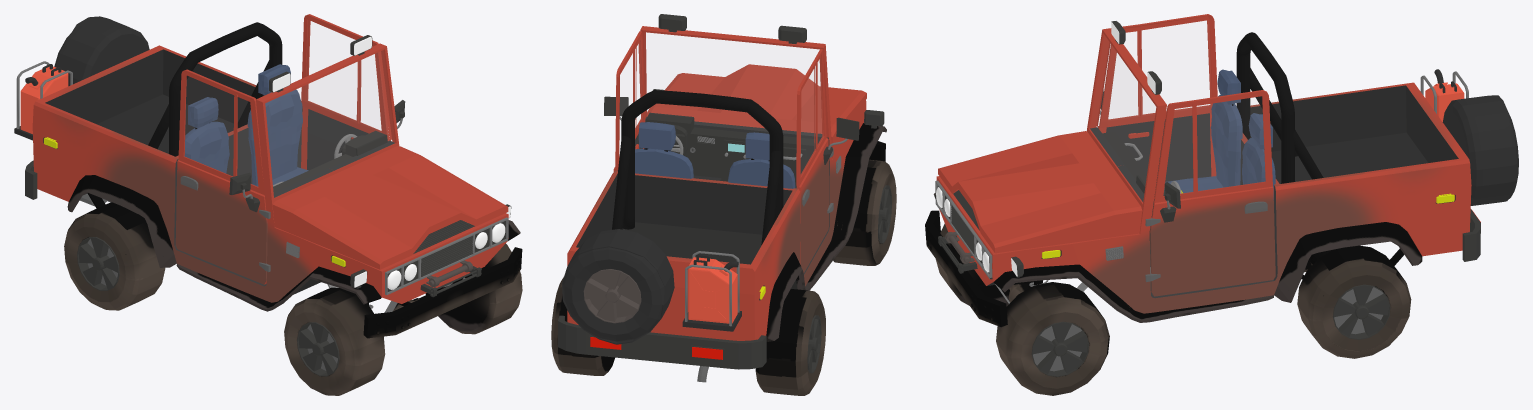
File: car.glb
3 renders of one model, left to right at view 1: azimuth 30°, elevation 25°; view 2: azimuth 150°, elevation 25°; view 3: azimuth 270°, elevation 25°, orthographic. The views are drawn at different scales.
Visible parts, largest first — view 1: Cube_0, Cube.001_1, Plane_2, Circle.005_21, Circle.004_20, Plane.008_18, Circle.006_31, Cube.009_38, Cylinder.002_28, Plane.001_3, Cube.008_39, Plane.002_4 (+10 smaller); view 2: Cube_0, Cube.001_1, Circle.003_30, Circle.004_20, Cylinder.002_28, Plane_2, Plane.009_22, Cube.007_32, Circle.005_21, Plane.002_4, Plane.011_26, Circle.006_31 (+8 smaller); view 3: Cube_0, Plane_2, Cube.001_1, Circle.005_21, Circle.004_20, Circle.006_31, Cylinder.002_28, Plane.001_3, Cube.008_39, Plane.002_4, Plane.008_18, Cube.009_38 (+5 smaller).
Boxes of the visible parts, x1,y1,x2,y2 form: Cube_0: (32, 43, 508, 303); Cube.001_1: (272, 146, 508, 269); Plane_2: (175, 14, 390, 284); Circle.005_21: (284, 243, 522, 395); Circle.004_20: (64, 202, 165, 310); Plane.008_18: (363, 247, 522, 338); Circle.006_31: (55, 16, 149, 86); Cube.009_38: (247, 64, 308, 186); Cylinder.002_28: (148, 22, 282, 156); Plane.001_3: (67, 175, 176, 267); Cube.008_39: (184, 97, 229, 173); Plane.002_4: (176, 220, 520, 311); Cube_0: (567, 26, 866, 340); Cube.001_1: (647, 64, 866, 158); Circle.003_30: (562, 247, 664, 341); Circle.004_20: (551, 277, 825, 395); Cylinder.002_28: (612, 90, 783, 245); Plane_2: (613, 31, 829, 273); Plane.009_22: (558, 315, 766, 369); Cube.007_32: (646, 112, 815, 185); Circle.005_21: (833, 159, 896, 265); Plane.002_4: (805, 123, 886, 290); Plane.011_26: (688, 254, 738, 323); Circle.006_31: (562, 229, 674, 344); Cube_0: (936, 28, 1471, 313); Plane_2: (1098, 14, 1275, 296); Cube.001_1: (938, 131, 1142, 253); Circle.005_21: (935, 223, 1109, 395); Circle.004_20: (1297, 245, 1411, 358); Circle.006_31: (1442, 95, 1515, 205); Cylinder.002_28: (1236, 32, 1323, 183); Plane.001_3: (1274, 222, 1422, 302); Cube.008_39: (1165, 69, 1242, 193); Plane.002_4: (933, 193, 1273, 322); Plane.008_18: (925, 210, 1031, 327); Cube.009_38: (1242, 113, 1275, 200).
Bounding box in the file's own units: 2.57 × 2.16 × 4.13.
Materials: 19 (4 with a texture image).
